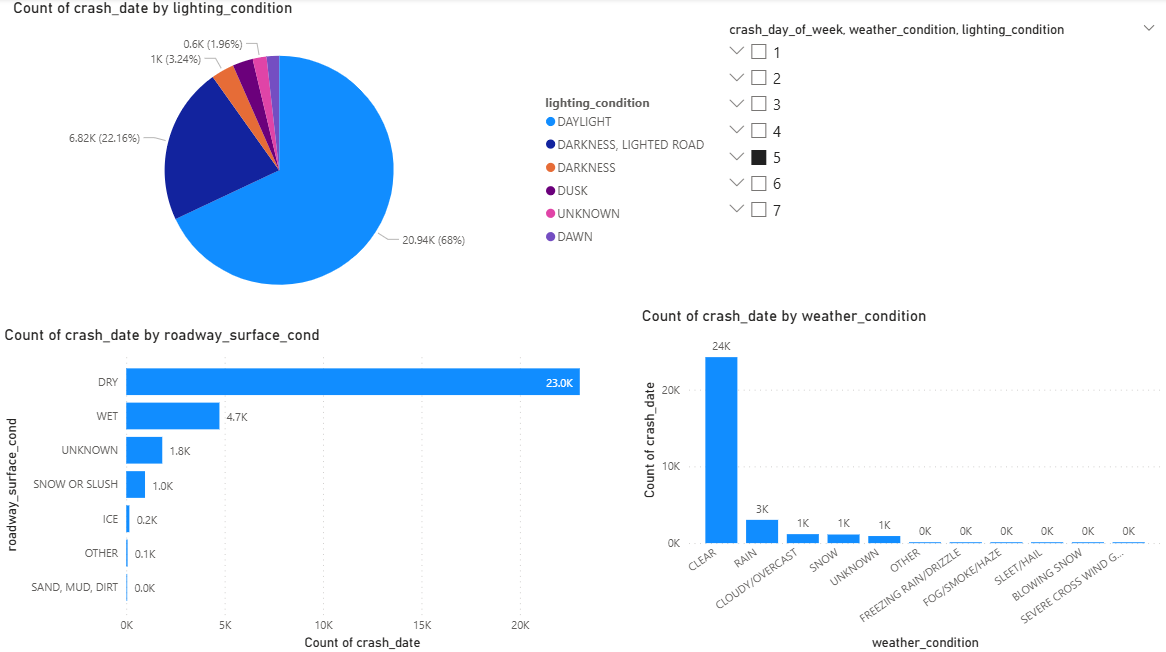

This screenshot's page, from the dashboard's own definition file:
{"tool":"powerbi","page":{"name":"Road & Lighting Condition","canvas":[1280,720],"ordinal":2},"visuals":[{"type":"pieChart","fields":{"Y":["CountNonNull(traffic_accidents.crash_date)"],"Category":["traffic_accidents.lighting_condition"]},"box":[9.6,0,778,359.5],"z":0},{"type":"barChart","fields":{"Category":["traffic_accidents.roadway_surface_cond"],"Y":["CountNonNull(traffic_accidents.crash_date)"]},"box":[0,359.5,672.4,360.9],"z":1000},{"type":"clusteredColumnChart","fields":{"Category":["traffic_accidents.weather_condition"],"Y":["CountNonNull(traffic_accidents.crash_date)"]},"box":[699.8,338.9,580.4,381.5],"z":2000},{"type":"slicer","fields":{"Values":["traffic_accidents.crash_day_of_week","traffic_accidents.weather_condition","traffic_accidents.lighting_condition"]},"box":[787.7,20.6,492.6,293.7],"z":2001}]}

Visuals, with their boxes in screenshot pixels (x1, y1, x2, y2), scaled from the page's 1280x720 canvas onto the 1166x652 screenshot:
pieChart - CountNonNull(traffic_accidents.crash_date) x traffic_accidents.lighting_condition: bbox=(9, 0, 717, 326)
barChart - traffic_accidents.roadway_surface_cond x CountNonNull(traffic_accidents.crash_date): bbox=(0, 326, 613, 651)
clusteredColumnChart - traffic_accidents.weather_condition x CountNonNull(traffic_accidents.crash_date): bbox=(637, 307, 1165, 651)
slicer - traffic_accidents.crash_day_of_week x traffic_accidents.weather_condition: bbox=(718, 19, 1165, 285)
